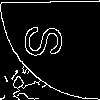S: (25, 25, 71, 58)
